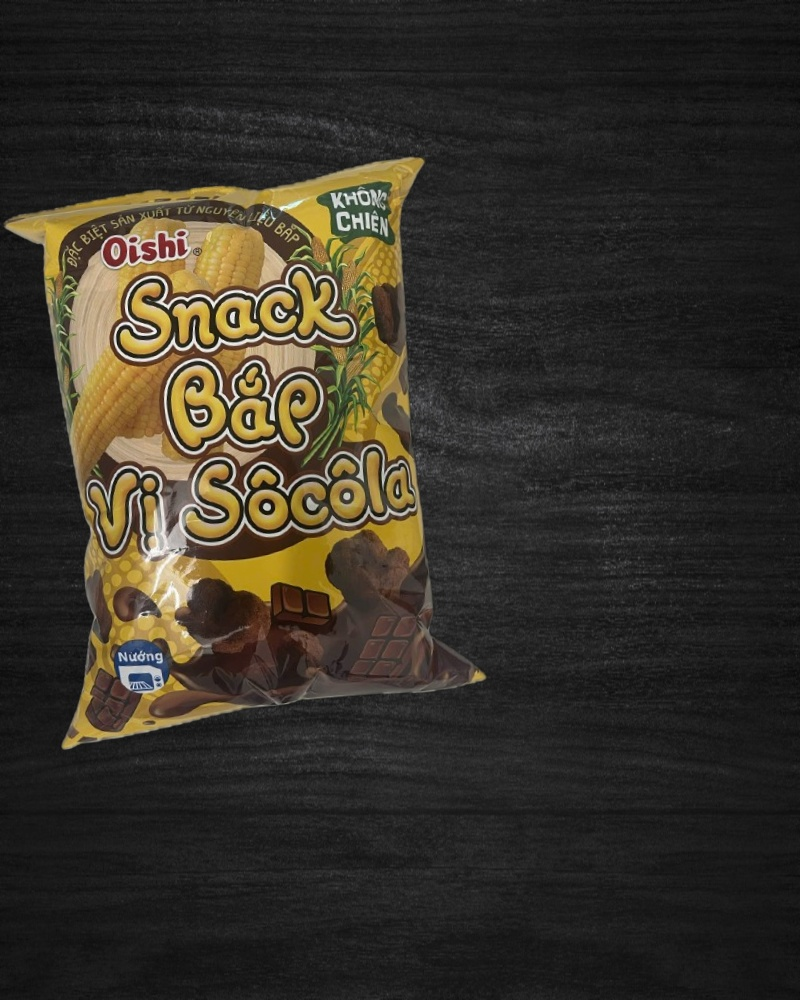Snack socola: (4, 158, 490, 739)
